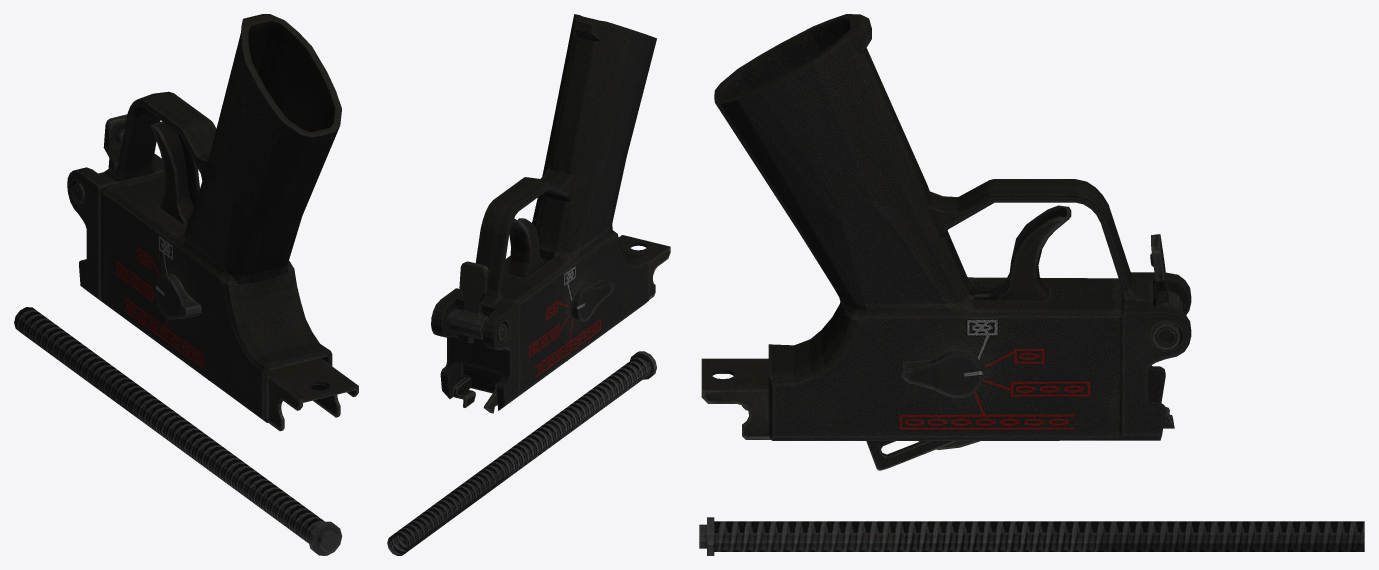
The picture shows the model from 3 angles, left to right: view 1: azimuth 30°, elevation 25°; view 2: azimuth 150°, elevation 25°; view 3: azimuth 270°, elevation 25°; orthographic projection. The views are drawn at different scales.
Visible parts, largest first — view 1: TW_5926bb2186f7744b1c6c6e60_PZ_Import; view 2: TW_5926bb2186f7744b1c6c6e60_PZ_Import; view 3: TW_5926bb2186f7744b1c6c6e60_PZ_Import.
Boxes of the visible parts, x1=… form: TW_5926bb2186f7744b1c6c6e60_PZ_Import: x1=14, y1=14, x2=358, y2=555; TW_5926bb2186f7744b1c6c6e60_PZ_Import: x1=387, y1=14, x2=670, y2=555; TW_5926bb2186f7744b1c6c6e60_PZ_Import: x1=699, y1=14, x2=1364, y2=555.
Size of the model in its own units: 0.0227 by 0.1158 by 0.1023.
Materials: 1 (1 with a texture image).
